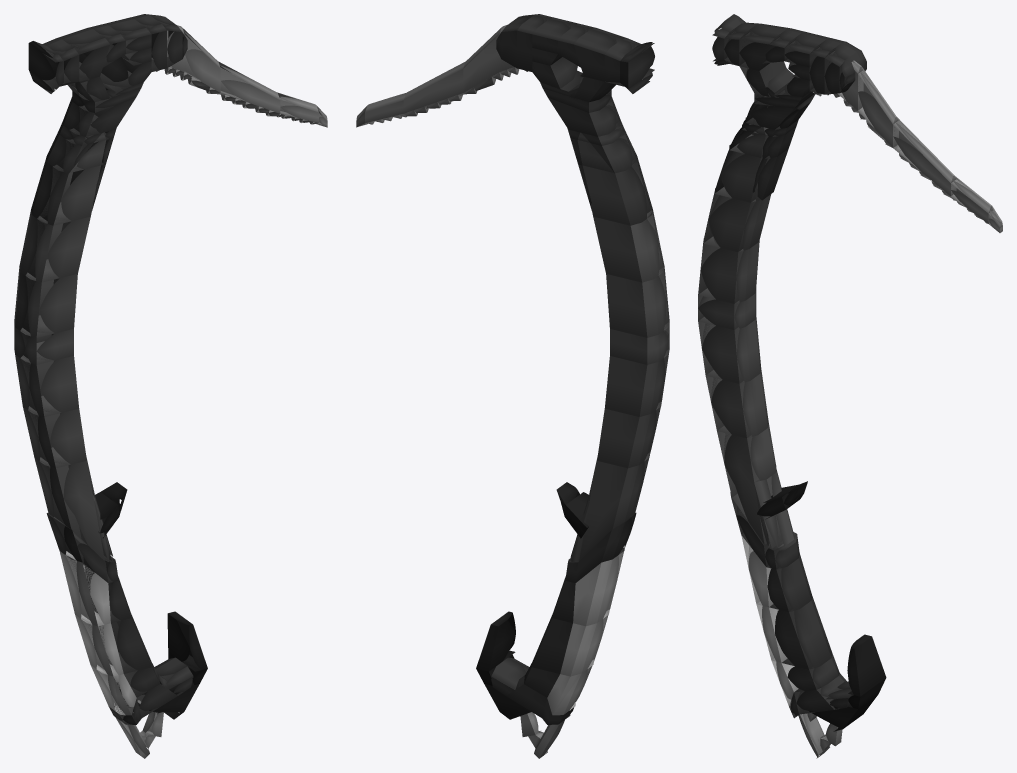
The model's file is icepick.obj.
3 renders of one model, left to right at view 1: azimuth 30°, elevation 25°; view 2: azimuth 150°, elevation 25°; view 3: azimuth 330°, elevation 25°, orthographic. The views are drawn at different scales.
Visible parts, largest first — view 1: gunModel0, gunModel5, gunModel3, gunModel17, gunModel2, gunModel6, gunModel14, gunModel49, gunModel15, gunModel31, gunModel13, gunModel37 (+33 smaller); view 2: gunModel0, gunModel5, gunModel17, gunModel3, gunModel2, gunModel6, gunModel14, gunModel15, gunModel49, gunModel13, gunModel31, gunModel37 (+30 smaller); view 3: gunModel0, gunModel5, gunModel3, gunModel17, gunModel49, gunModel2, gunModel43, gunModel6, gunModel31, gunModel21, gunModel23, gunModel20 (+26 smaller).
Part boxes in pixels (left/top/right/bottom): gunModel0: left=40, top=447, right=104, bottom=560; gunModel5: left=28, top=202, right=90, bottom=282; gunModel3: left=21, top=341, right=79, bottom=416; gunModel17: left=23, top=260, right=77, bottom=337; gunModel2: left=28, top=395, right=86, bottom=468; gunModel6: left=40, top=162, right=100, bottom=225; gunModel14: left=19, top=210, right=53, bottom=282; gunModel49: left=167, top=611, right=207, bottom=671; gunModel15: left=31, top=158, right=68, bottom=225; gunModel31: left=99, top=618, right=151, bottom=673; gunModel13: left=14, top=267, right=41, bottom=337; gunModel37: left=59, top=551, right=97, bottom=626; gunModel0: left=579, top=461, right=627, bottom=560; gunModel5: left=593, top=216, right=658, bottom=282; gunModel17: left=606, top=274, right=665, bottom=337; gunModel3: left=604, top=356, right=665, bottom=416; gunModel2: left=597, top=408, right=639, bottom=468; gunModel6: left=583, top=165, right=645, bottom=225; gunModel14: left=630, top=210, right=664, bottom=282; gunModel15: left=615, top=158, right=652, bottom=225; gunModel49: left=476, top=611, right=515, bottom=671; gunModel13: left=642, top=267, right=669, bottom=337; gunModel31: left=532, top=618, right=572, bottom=673; gunModel37: left=586, top=545, right=625, bottom=626; gunModel0: left=724, top=432, right=769, bottom=544; gunModel5: left=703, top=189, right=755, bottom=251; gunModel3: left=702, top=323, right=743, bottom=383; gunModel17: left=698, top=237, right=743, bottom=303; gunModel49: left=847, top=634, right=886, bottom=696; gunModel2: left=711, top=376, right=750, bottom=438; gunModel43: left=794, top=595, right=832, bottom=669; gunModel6: left=714, top=134, right=762, bottom=202; gunModel31: left=775, top=610, right=812, bottom=669; gunModel21: left=743, top=369, right=768, bottom=437; gunModel23: left=754, top=470, right=794, bottom=547; gunModel20: left=737, top=315, right=761, bottom=383.
Size of the model in its own units: 5.92 by 13.55 by 0.9.
